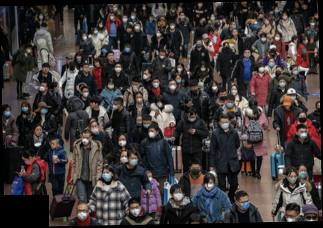mask_weared_incorrect: (90, 124, 100, 135), (196, 41, 203, 48)
with_mask: (129, 205, 142, 218), (76, 209, 89, 221), (240, 198, 252, 211), (101, 171, 113, 183), (173, 190, 185, 202), (285, 212, 299, 222), (190, 166, 202, 177), (204, 181, 216, 192), (288, 174, 299, 185), (299, 168, 308, 181), (81, 135, 91, 146), (129, 156, 139, 167), (306, 214, 319, 222), (38, 83, 48, 93), (39, 106, 49, 116), (298, 114, 308, 124), (299, 129, 308, 140), (3, 108, 12, 118), (118, 137, 127, 147), (120, 154, 129, 164), (148, 129, 157, 139), (221, 120, 230, 130), (114, 65, 123, 74), (22, 158, 32, 166), (169, 82, 177, 92), (188, 115, 198, 123), (230, 116, 238, 126), (21, 105, 30, 113), (136, 95, 144, 104), (143, 121, 152, 129), (190, 86, 199, 94), (220, 92, 228, 101), (226, 101, 235, 109), (289, 93, 297, 102), (279, 80, 287, 89), (55, 84, 62, 94), (109, 13, 117, 21), (82, 90, 90, 98), (134, 24, 142, 32), (142, 72, 150, 80), (231, 87, 239, 95), (275, 69, 283, 77), (131, 83, 140, 90), (112, 102, 119, 111), (153, 80, 160, 89), (157, 100, 164, 109), (82, 34, 89, 42), (124, 46, 131, 54), (107, 83, 115, 90), (159, 53, 167, 60), (176, 66, 184, 73), (200, 65, 208, 72), (212, 84, 219, 92), (245, 51, 252, 59), (293, 68, 300, 76), (269, 60, 276, 68), (270, 47, 277, 55), (148, 175, 154, 184), (26, 47, 33, 54), (112, 5, 119, 12), (101, 47, 108, 54), (175, 77, 182, 84), (261, 36, 268, 43), (259, 66, 266, 73), (156, 31, 162, 39), (98, 22, 104, 29), (94, 28, 100, 35), (76, 55, 83, 61), (69, 65, 76, 71), (131, 13, 137, 20), (122, 17, 129, 23), (169, 24, 176, 30), (180, 14, 186, 21), (202, 19, 208, 26), (232, 23, 238, 30), (224, 44, 230, 51), (241, 2, 248, 8), (259, 15, 265, 22), (275, 35, 281, 42), (311, 21, 317, 28), (317, 104, 321, 113), (283, 14, 289, 20), (260, 30, 265, 37), (285, 104, 292, 109), (275, 7, 280, 14), (150, 16, 155, 22), (171, 8, 176, 14), (197, 3, 203, 8), (210, 15, 215, 21), (222, 20, 227, 26), (288, 59, 293, 65), (305, 38, 310, 44), (294, 10, 300, 15), (39, 14, 44, 19), (219, 19, 223, 25), (143, 5, 147, 10), (160, 19, 165, 23), (169, 45, 173, 50)
without_mask: (34, 127, 44, 137), (42, 65, 50, 74), (50, 141, 58, 150), (83, 65, 90, 73), (108, 54, 115, 62), (90, 101, 96, 108), (94, 61, 100, 68), (203, 37, 210, 43), (233, 31, 239, 37), (126, 27, 131, 34), (66, 58, 72, 63), (214, 30, 219, 36), (265, 19, 270, 25), (315, 14, 320, 19), (303, 5, 307, 10)
